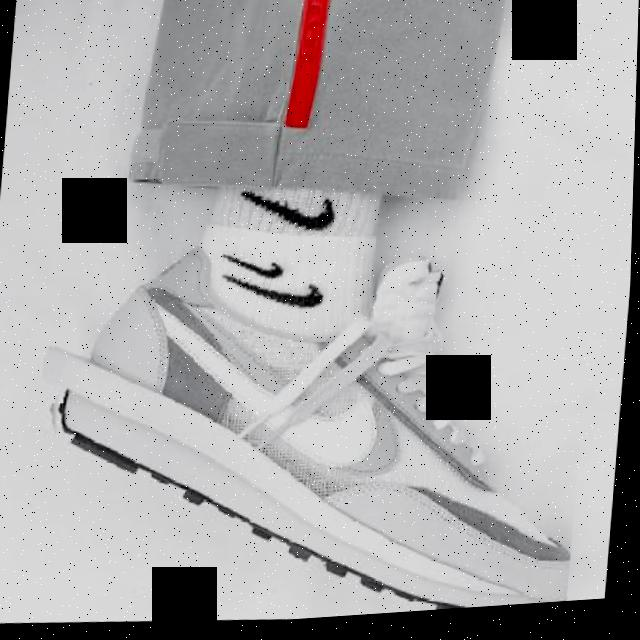shoe: (28, 220, 598, 638)
